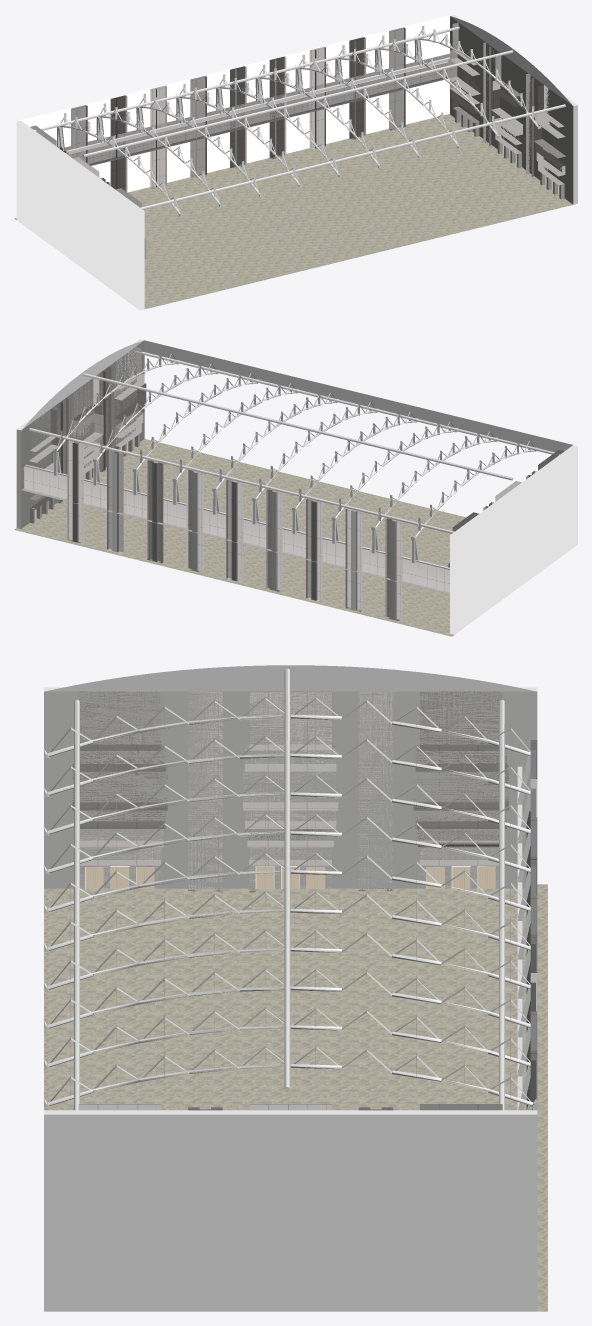
Rendered from hall2-booth.gltf.
3 renders of one model, top to bottom at view 1: azimuth 30°, elevation 25°; view 2: azimuth 150°, elevation 25°; view 3: azimuth 270°, elevation 25°, orthographic. The views are drawn at different scales.
Parts seen in each view (by area): view 1: Floor, Wall, celling, background, cotcua; view 2: Wall, Floor, celling, cotcua; view 3: Wall, Floor, celling, cua0.
Part boxes in pixels (bbox=[...]): Floor: bbox=[14, 114, 572, 309]; Wall: bbox=[16, 15, 577, 310]; celling: bbox=[34, 16, 572, 216]; background: bbox=[20, 14, 453, 192]; cotcua: bbox=[455, 107, 564, 199]; Wall: bbox=[16, 339, 577, 634]; Floor: bbox=[14, 439, 465, 636]; celling: bbox=[22, 340, 572, 569]; cotcua: bbox=[30, 431, 139, 523]; Wall: bbox=[44, 687, 537, 1311]; Floor: bbox=[44, 884, 547, 1311]; celling: bbox=[44, 665, 537, 1110]; cua0: bbox=[85, 867, 495, 888].
Bounding box in the file's own units: 66.83 × 16.65 × 33.28.
Materials: 10 (2 with a texture image).
